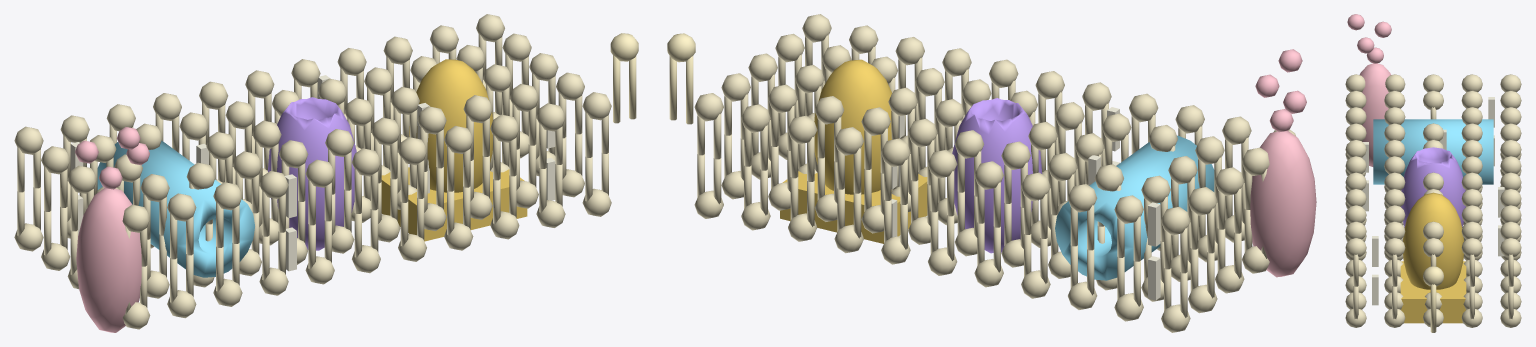
File: membrane_patch.glb
3 views of the same model, side by side, from view 1: azimuth 30°, elevation 25°; view 2: azimuth 150°, elevation 25°; view 3: azimuth 270°, elevation 25° (orthographic). The views are drawn at different scales.
Visible parts, largest first — view 1: bilayer, glycoprotein, pump_protein, channel_protein, carrier_protein, cholesterol, phospholipid_single; view 2: bilayer, glycoprotein, pump_protein, channel_protein, carrier_protein, cholesterol, phospholipid_single; view 3: bilayer, pump_protein, channel_protein, carrier_protein, glycoprotein, cholesterol, phospholipid_single.
Boxes of the visible parts, <box> form: bilayer: <box>14,14,611,329</box>; glycoprotein: <box>75,127,149,332</box>; pump_protein: <box>381,59,527,241</box>; channel_protein: <box>97,140,254,277</box>; carrier_protein: <box>268,97,356,250</box>; cholesterol: <box>70,75,555,271</box>; phospholipid_single: <box>610,33,638,123</box>; bilayer: <box>694,14,1296,332</box>; glycoprotein: <box>1250,49,1316,277</box>; pump_protein: <box>780,59,927,243</box>; channel_protein: <box>1055,135,1214,280</box>; carrier_protein: <box>952,98,1042,253</box>; cholesterol: <box>891,107,1160,300</box>; phospholipid_single: <box>667,33,695,124</box>; bilayer: <box>1345,74,1521,327</box>; pump_protein: <box>1400,192,1466,323</box>; channel_protein: <box>1373,119,1493,184</box>; carrier_protein: <box>1401,147,1465,227</box>; glycoprotein: <box>1347,14,1391,166</box>; cholesterol: <box>1362,97,1504,305</box>; phospholipid_single: <box>1423,266,1443,332</box>.
Bounding box in the file's own units: 2.58 × 0.905 × 0.91.
